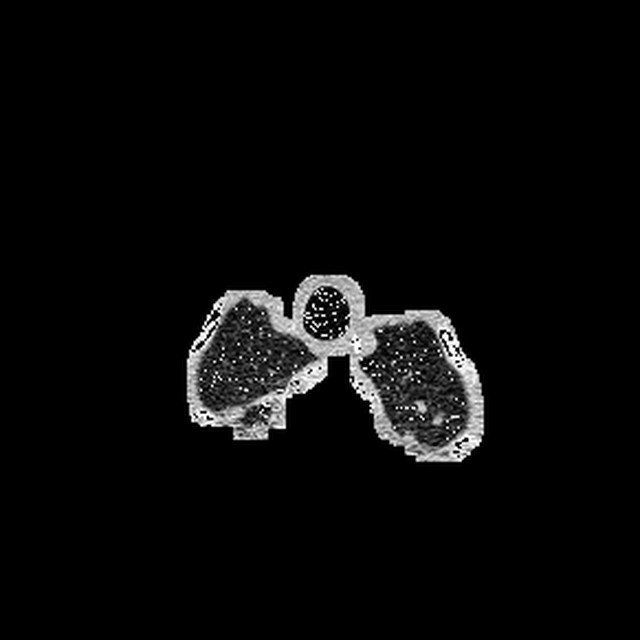PN: (416, 402, 424, 411)
